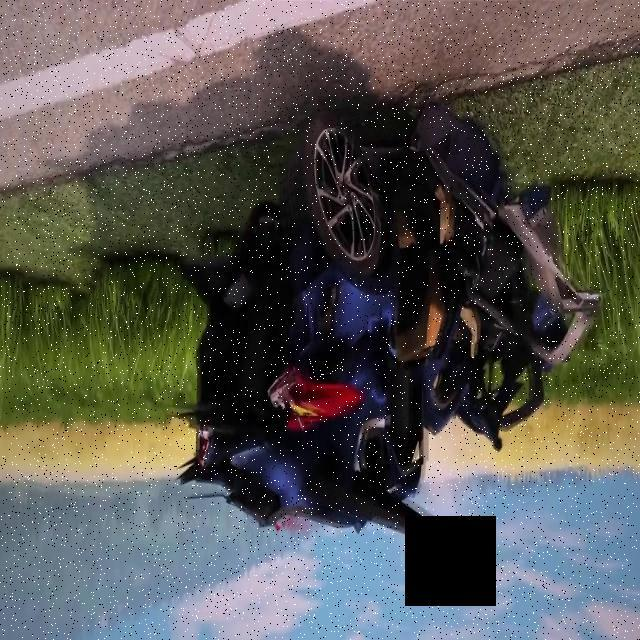severe: (176, 72, 596, 568)
